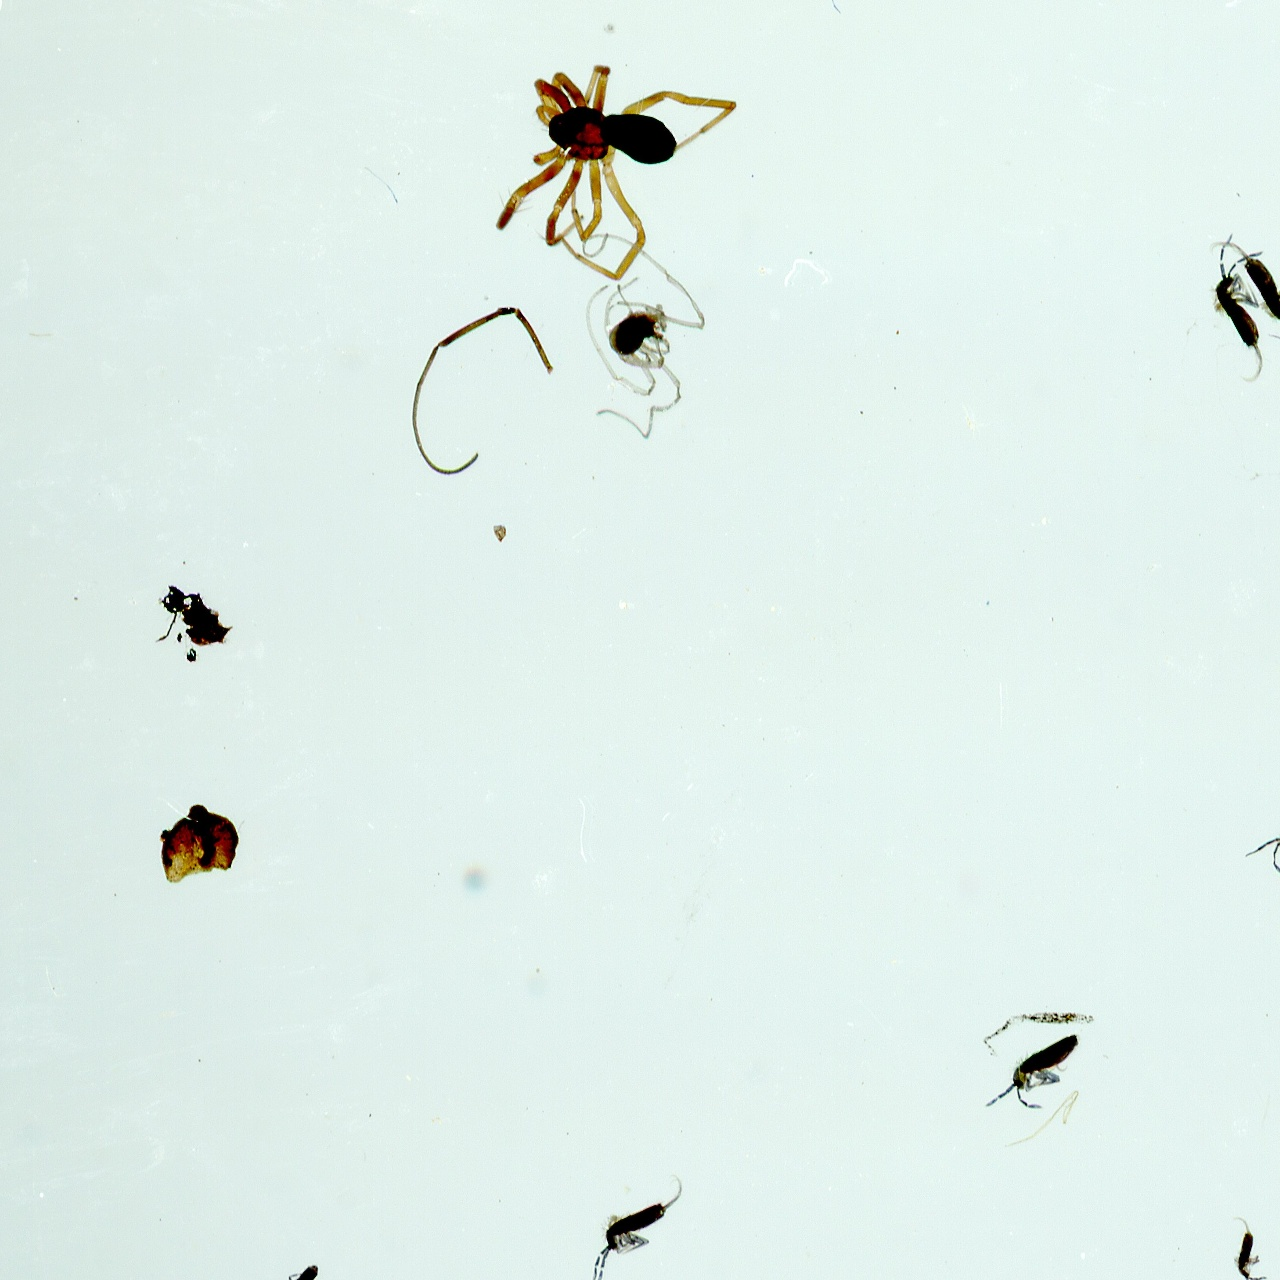arthropod: (478, 56, 741, 281), (561, 220, 713, 448), (974, 1003, 1099, 1142), (586, 1165, 692, 1280), (1200, 202, 1280, 350), (1208, 226, 1269, 390), (253, 1239, 339, 1280), (1227, 1210, 1275, 1280), (1230, 815, 1280, 880)
